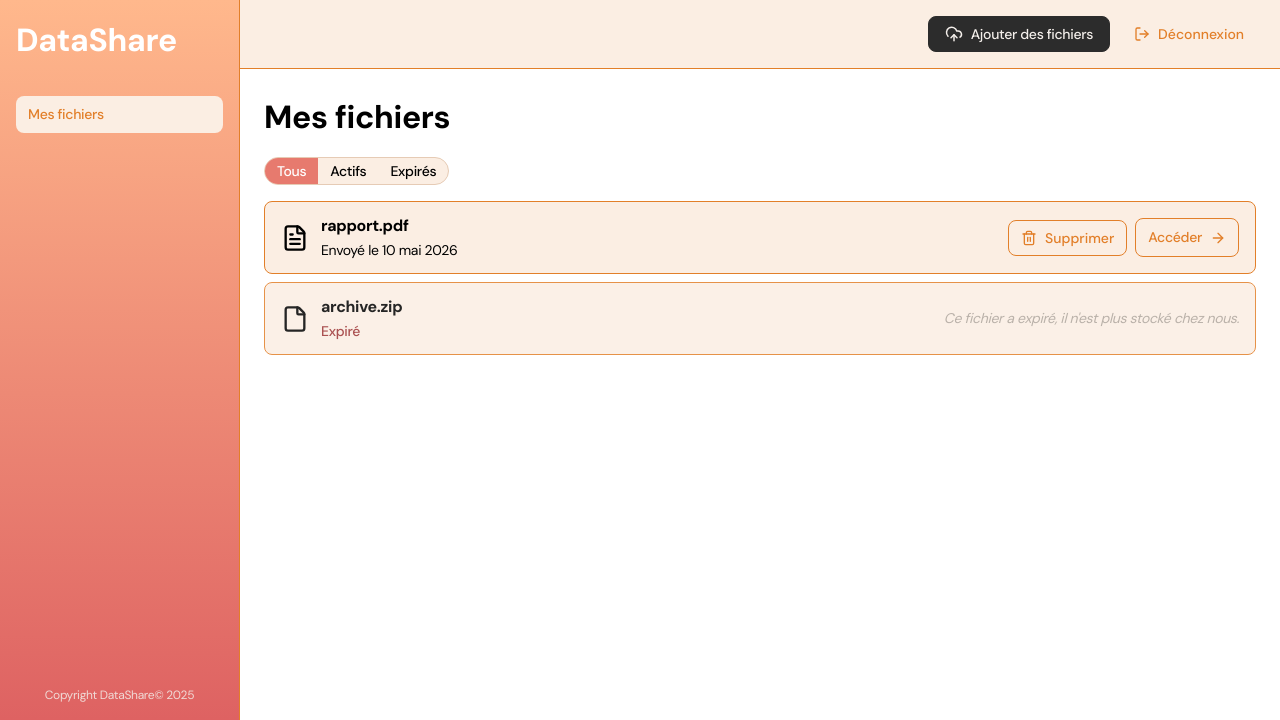
MyFilesPage › le switch filtre la liste par statut
The width and height of the screenshot is (1280, 720).
Check: the text "rapport.pdf" is shown, box [321,215,408,236]
Check: the text "archive.zip" is shown, box [321,296,402,317]
Click the radio button labelled "Expirés".
click(413, 171)  # box [378,158,448,184]
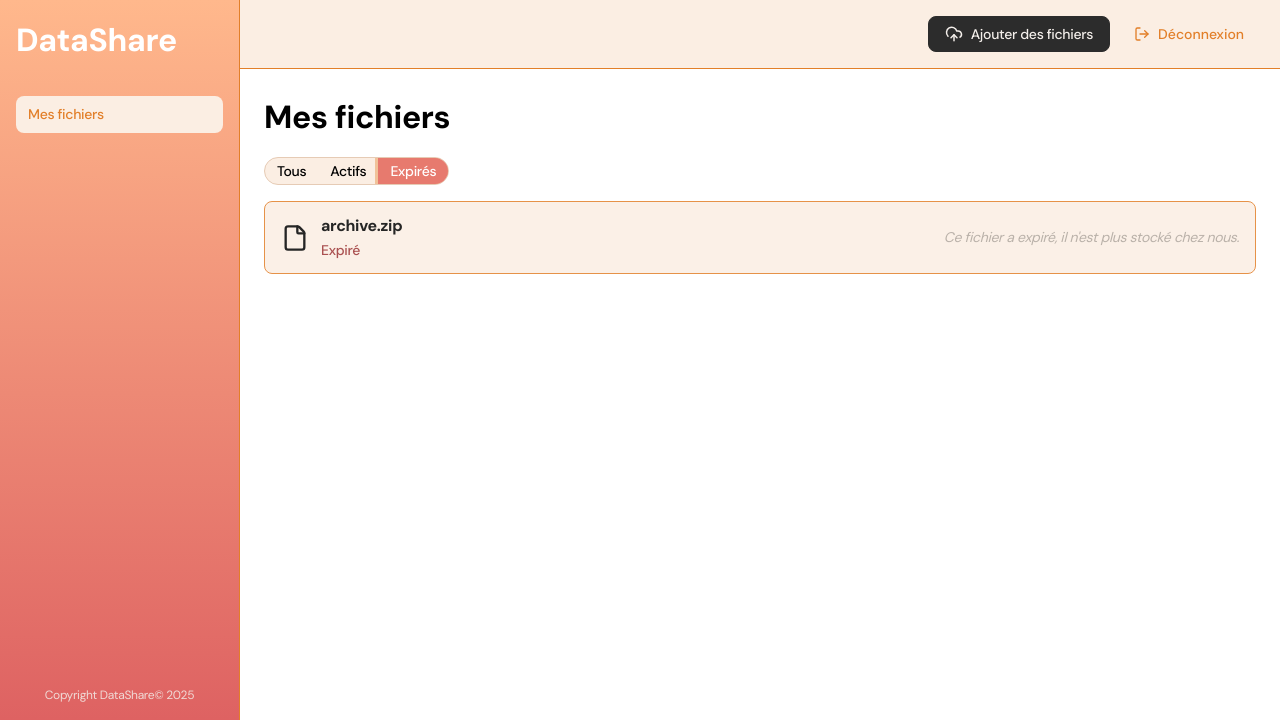
Check: the text "archive.zip" is shown, box [321,215,402,236]
Check: the text "rapport.pdf" is gone
Click the radio button labelled "Actifs".
click(348, 171)  # box [318,158,378,184]
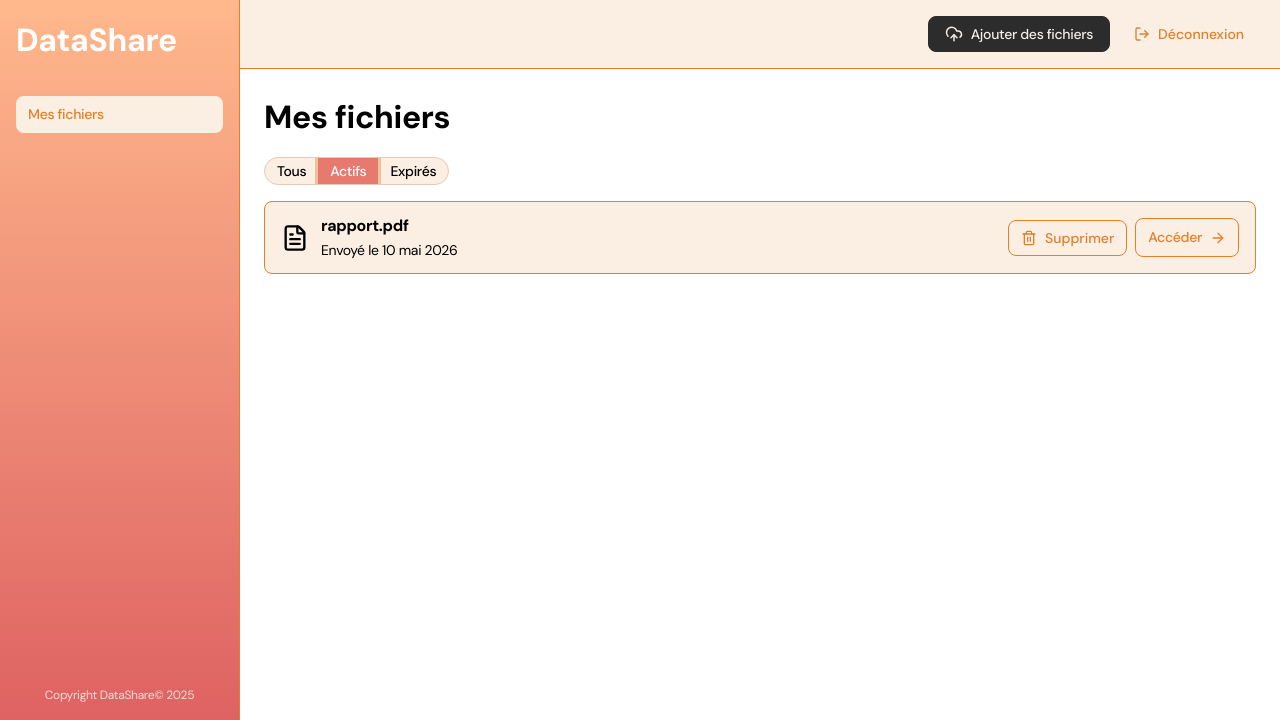
Check: the text "rapport.pdf" is shown, box [321,215,408,236]
Check: the text "archive.zip" is gone
